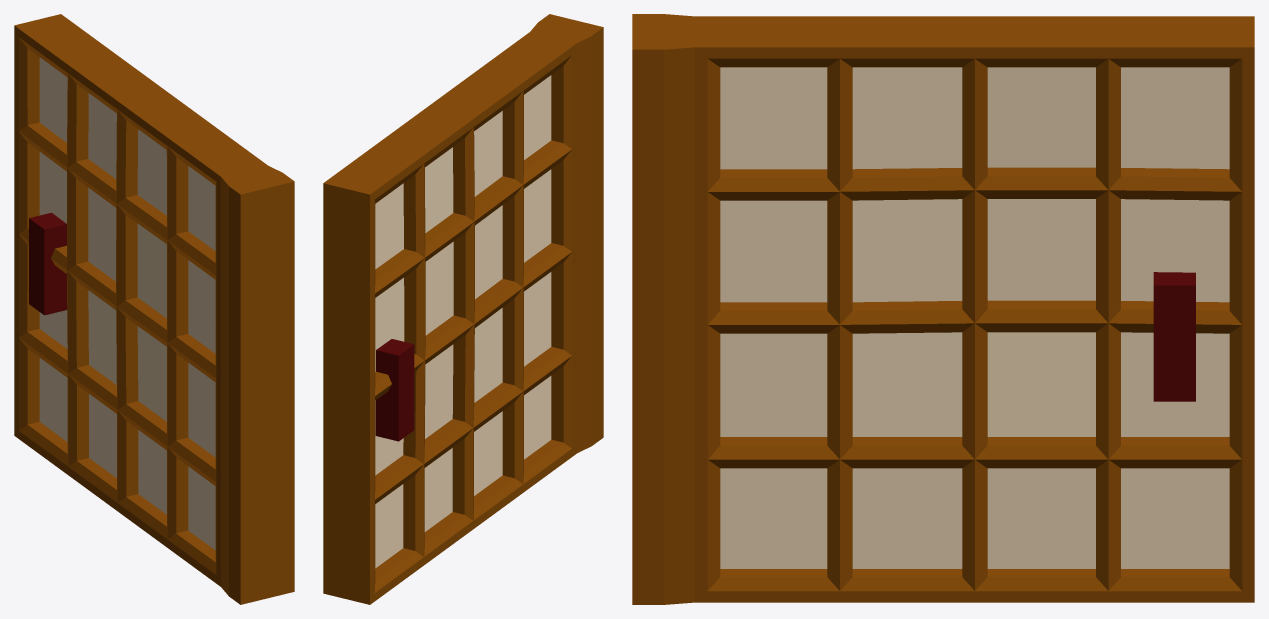
Rendered from Door.fbx.
3 views of the same model, side by side, from view 1: azimuth 30°, elevation 25°; view 2: azimuth 150°, elevation 25°; view 3: azimuth 270°, elevation 25° (orthographic). The views are drawn at different scales.
Visible parts, largest first — view 1: Cube; view 2: Cube; view 3: Cube.
Part boxes in pixels (box(x1,y1,x2,y2)): Cube: box(14, 14, 294, 604); Cube: box(323, 14, 603, 604); Cube: box(632, 14, 1254, 604).
Bounding box in the file's own units: 71.49 × 487 × 495.
